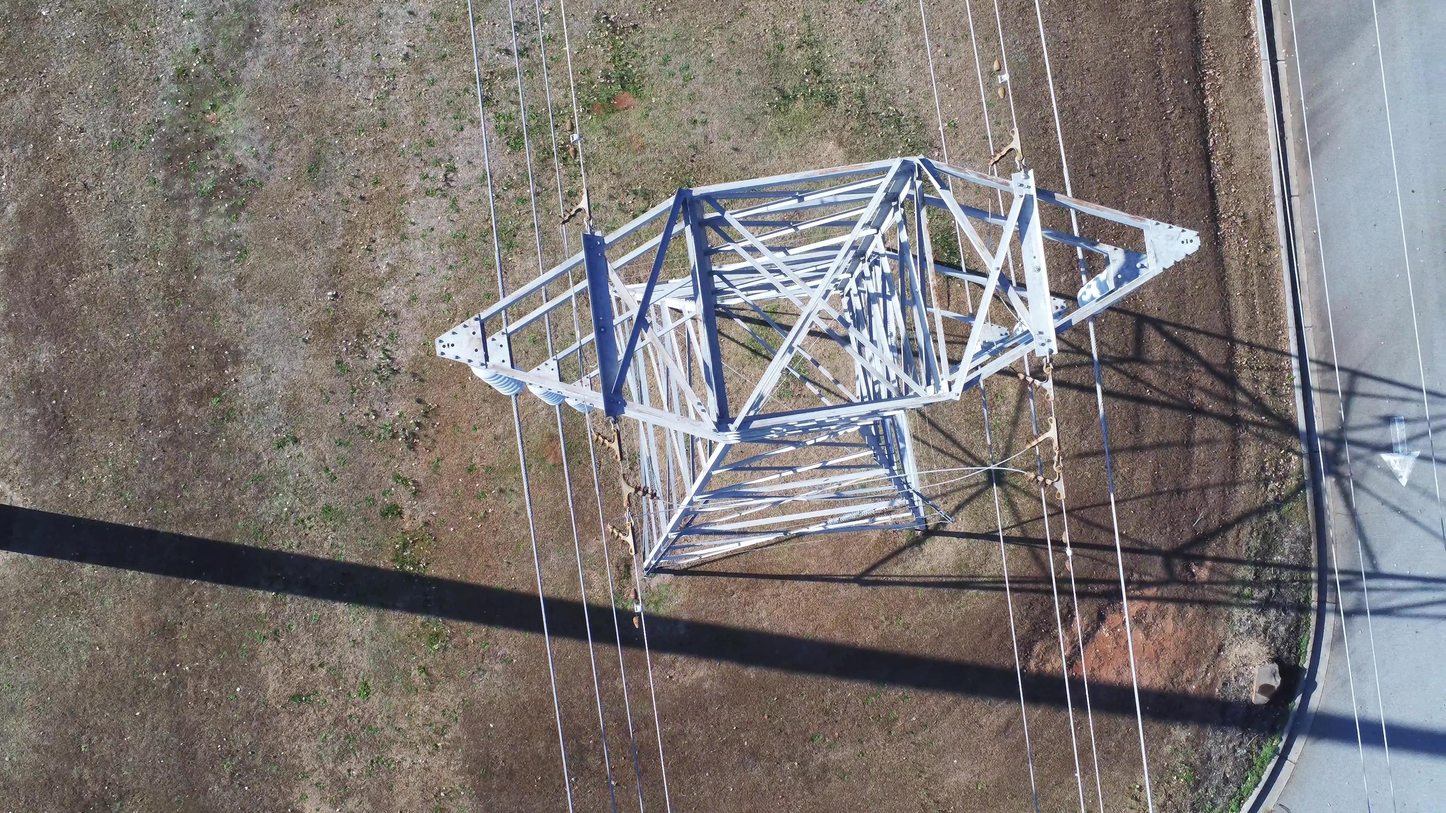power_tower: (435, 154, 1201, 577)
